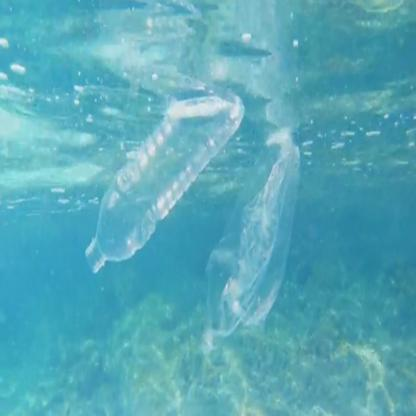Rác: (83, 64, 231, 275), (223, 150, 318, 352)
